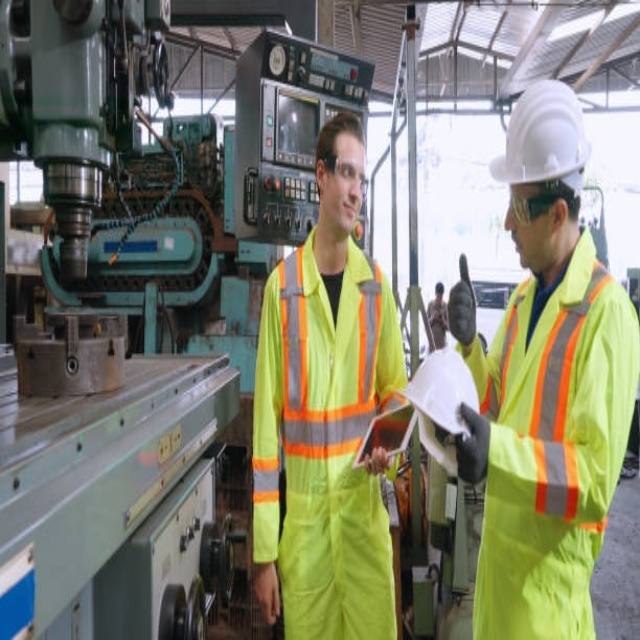Gafas: (322, 149, 368, 192), (509, 186, 555, 225)
Guantes: (453, 404, 491, 486), (447, 255, 477, 347)
Sin_guantes: (253, 556, 283, 625)
Sin_mascara: (337, 197, 362, 233), (508, 229, 532, 264)
